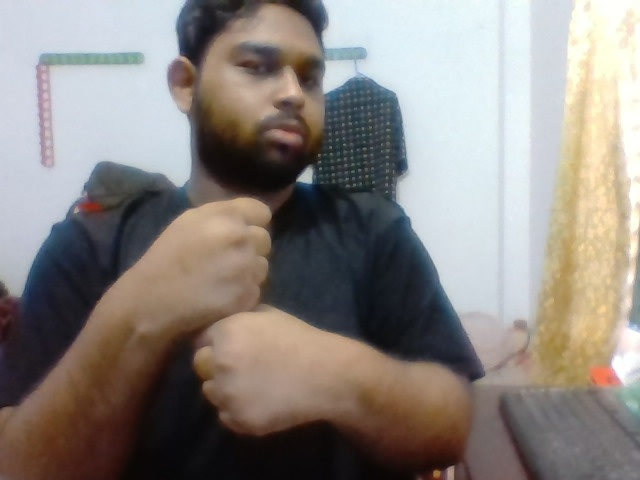G: (161, 190, 326, 440)
